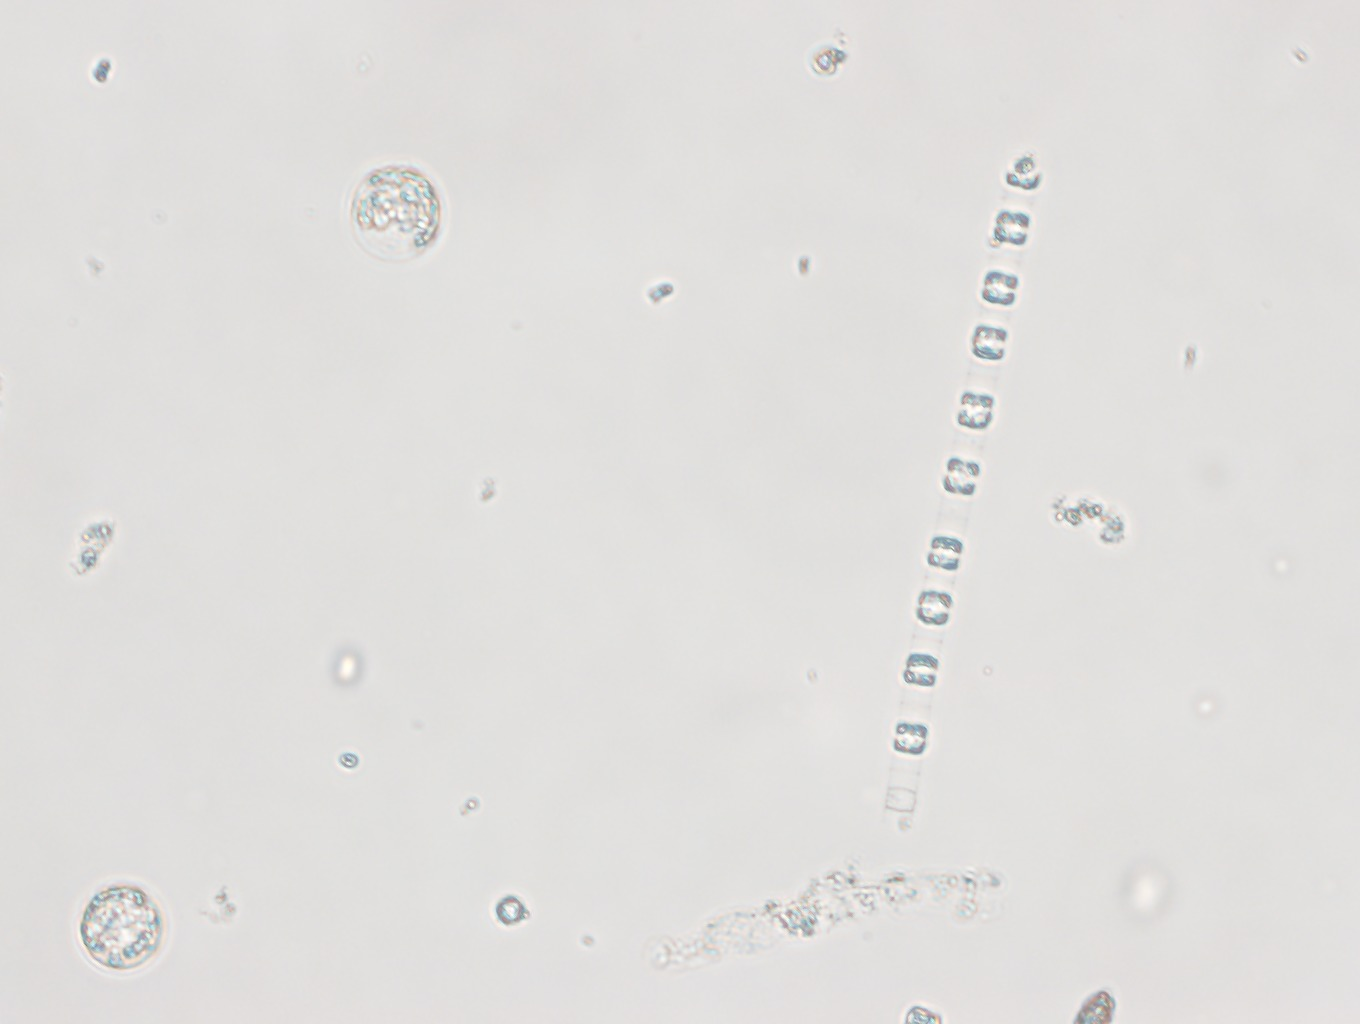skeletonema: (882, 157, 1040, 835)
